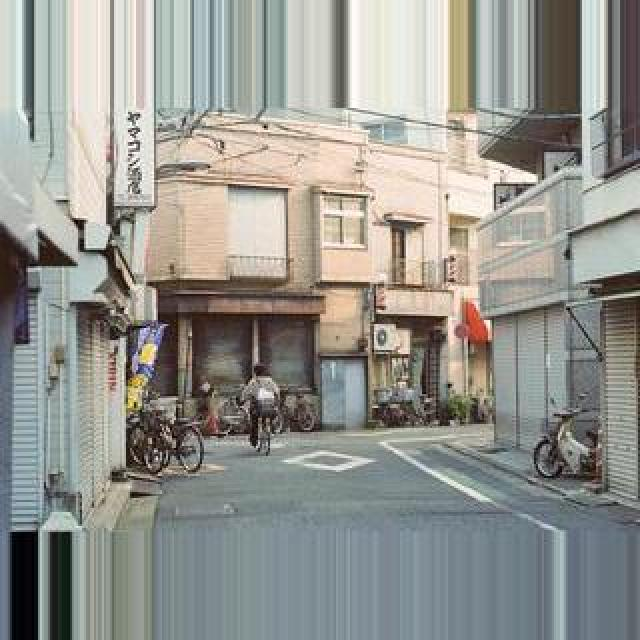Emergency Vehicles-Bike: (532, 402, 600, 482)
MC-Bike: (238, 360, 282, 452)
Person: (130, 398, 206, 474), (244, 400, 280, 454), (274, 388, 316, 432)
